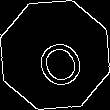O_NW: (24, 22, 86, 88)
